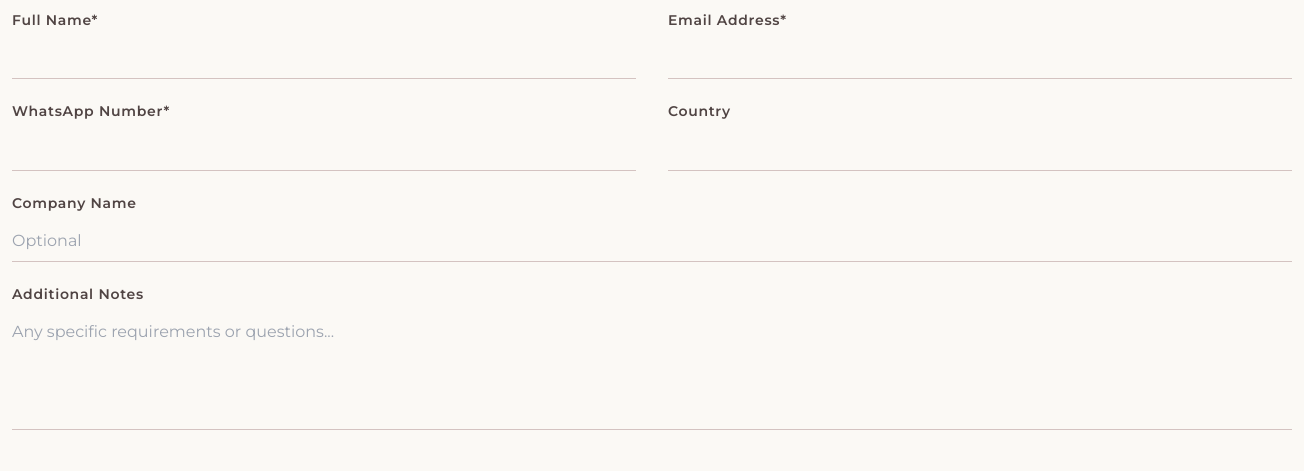
Scenario: QuoteContactForm › shows error on blur when required field is empty
Click the field labelled "Full Name*" at coordinates (324, 58), box [12, 37, 636, 79]
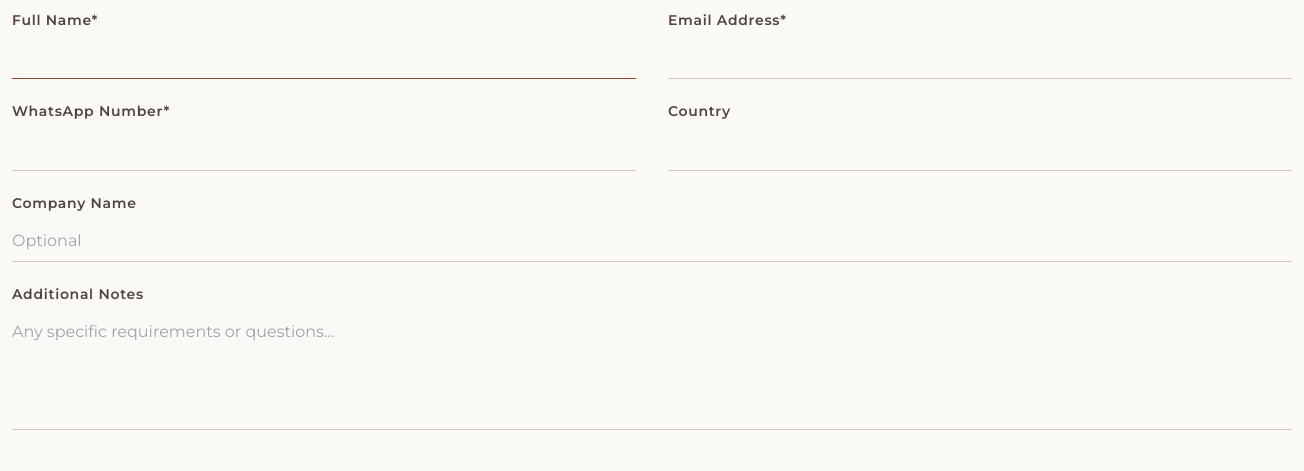
Press Tab
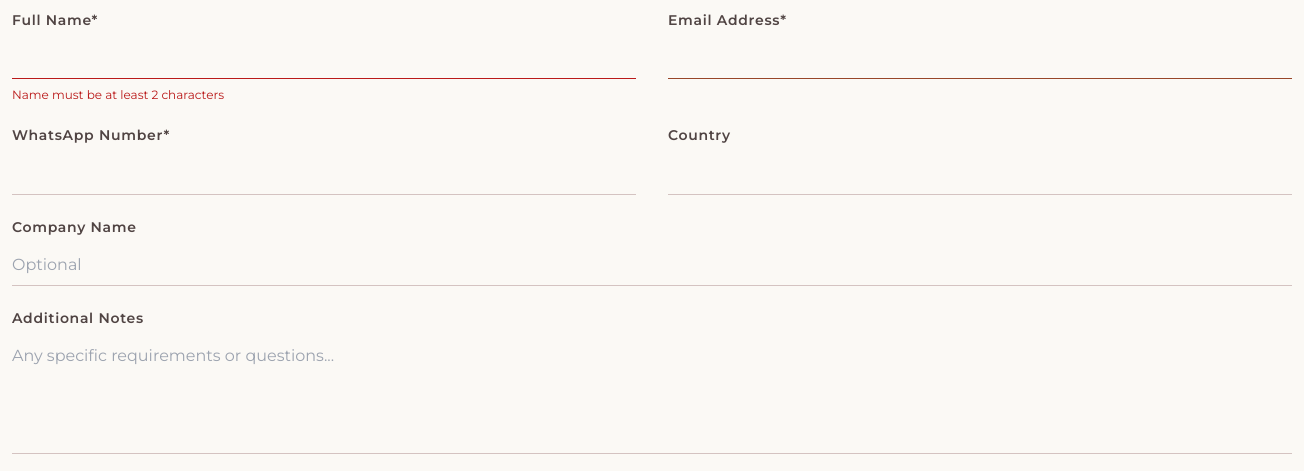
Expected: the text "Name must be at least 2 characters" is shown, [12, 87, 224, 102]
